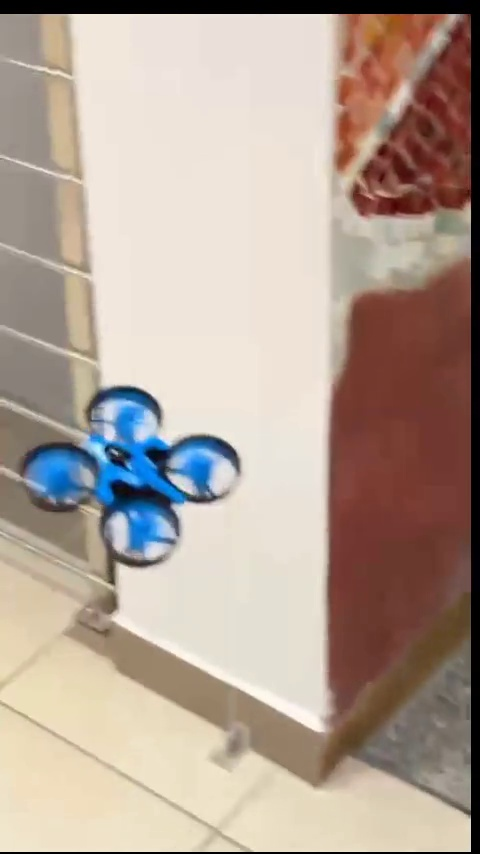drone: (21, 379, 251, 578)
